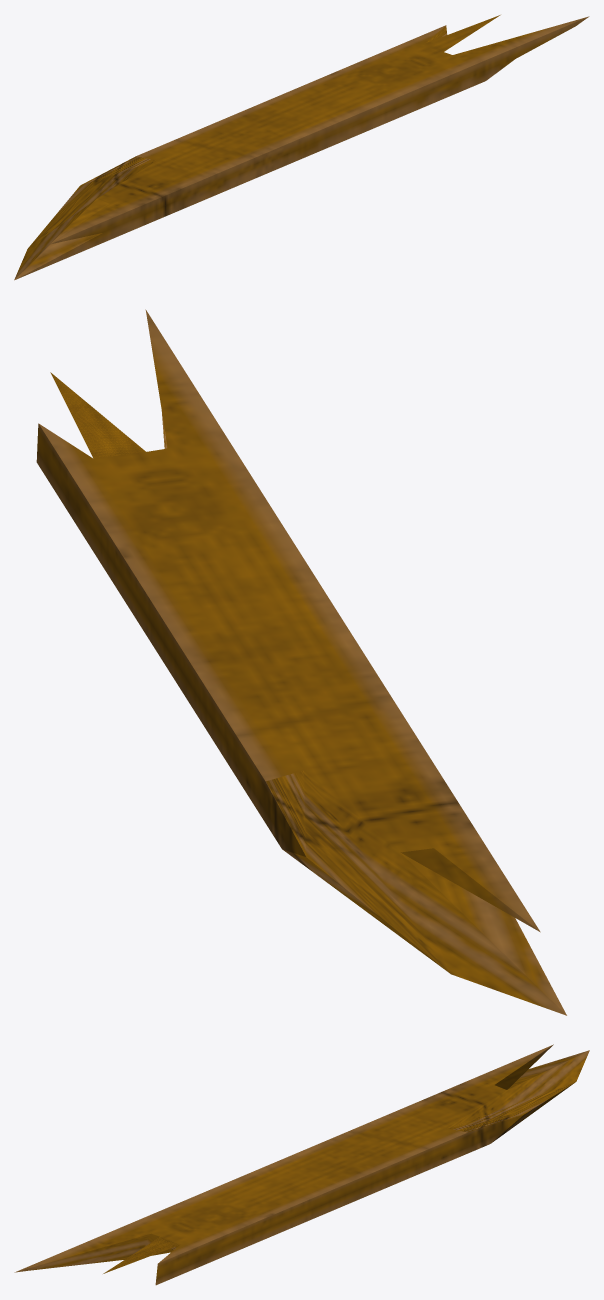
The model's file is box_hahen_C.fbx.
The picture shows the model from 3 angles, top to bottom: view 1: azimuth 90°, elevation 25°; view 2: azimuth 150°, elevation 25°; view 3: azimuth 270°, elevation 25°; orthographic projection. The views are drawn at different scales.
Visible parts, largest first — view 1: polySurface5; view 2: polySurface5; view 3: polySurface5.
Boxes of the visible parts, x1,y1,x2,y2 form: polySurface5: [14, 15, 589, 280]; polySurface5: [36, 309, 566, 1015]; polySurface5: [14, 1044, 589, 1285].
Size of the model in its own units: 62.85 by 2.5 by 62.4.
Materials: 1 (1 with a texture image).
